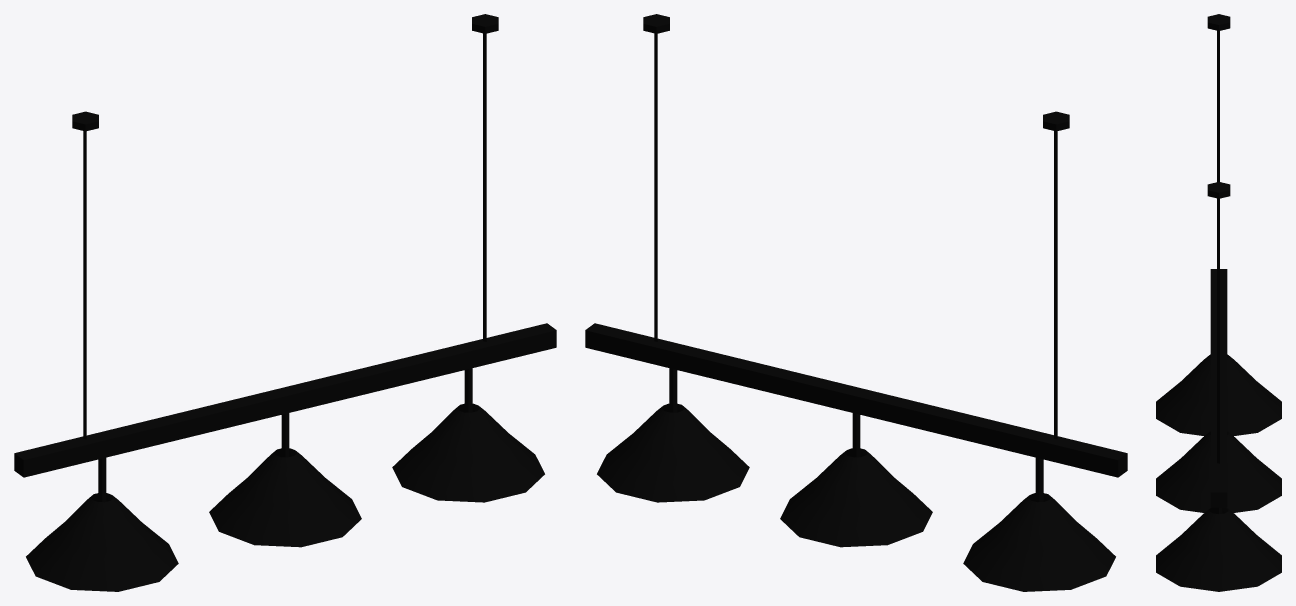
File: SM_billiard_lamp.fbx
The picture shows the model from 3 angles, left to right: view 1: azimuth 30°, elevation 25°; view 2: azimuth 150°, elevation 25°; view 3: azimuth 270°, elevation 25°; orthographic projection. The views are drawn at different scales.
Visible parts, largest first — view 1: billiard_lamp; view 2: billiard_lamp; view 3: billiard_lamp.
Part boxes in pixels (<box>): billiard_lamp: <box>14,14,556,591</box>; billiard_lamp: <box>585,14,1127,591</box>; billiard_lamp: <box>1156,14,1281,591</box>.
Size of the model in its own units: 1.6 by 1.28 by 0.3804.
